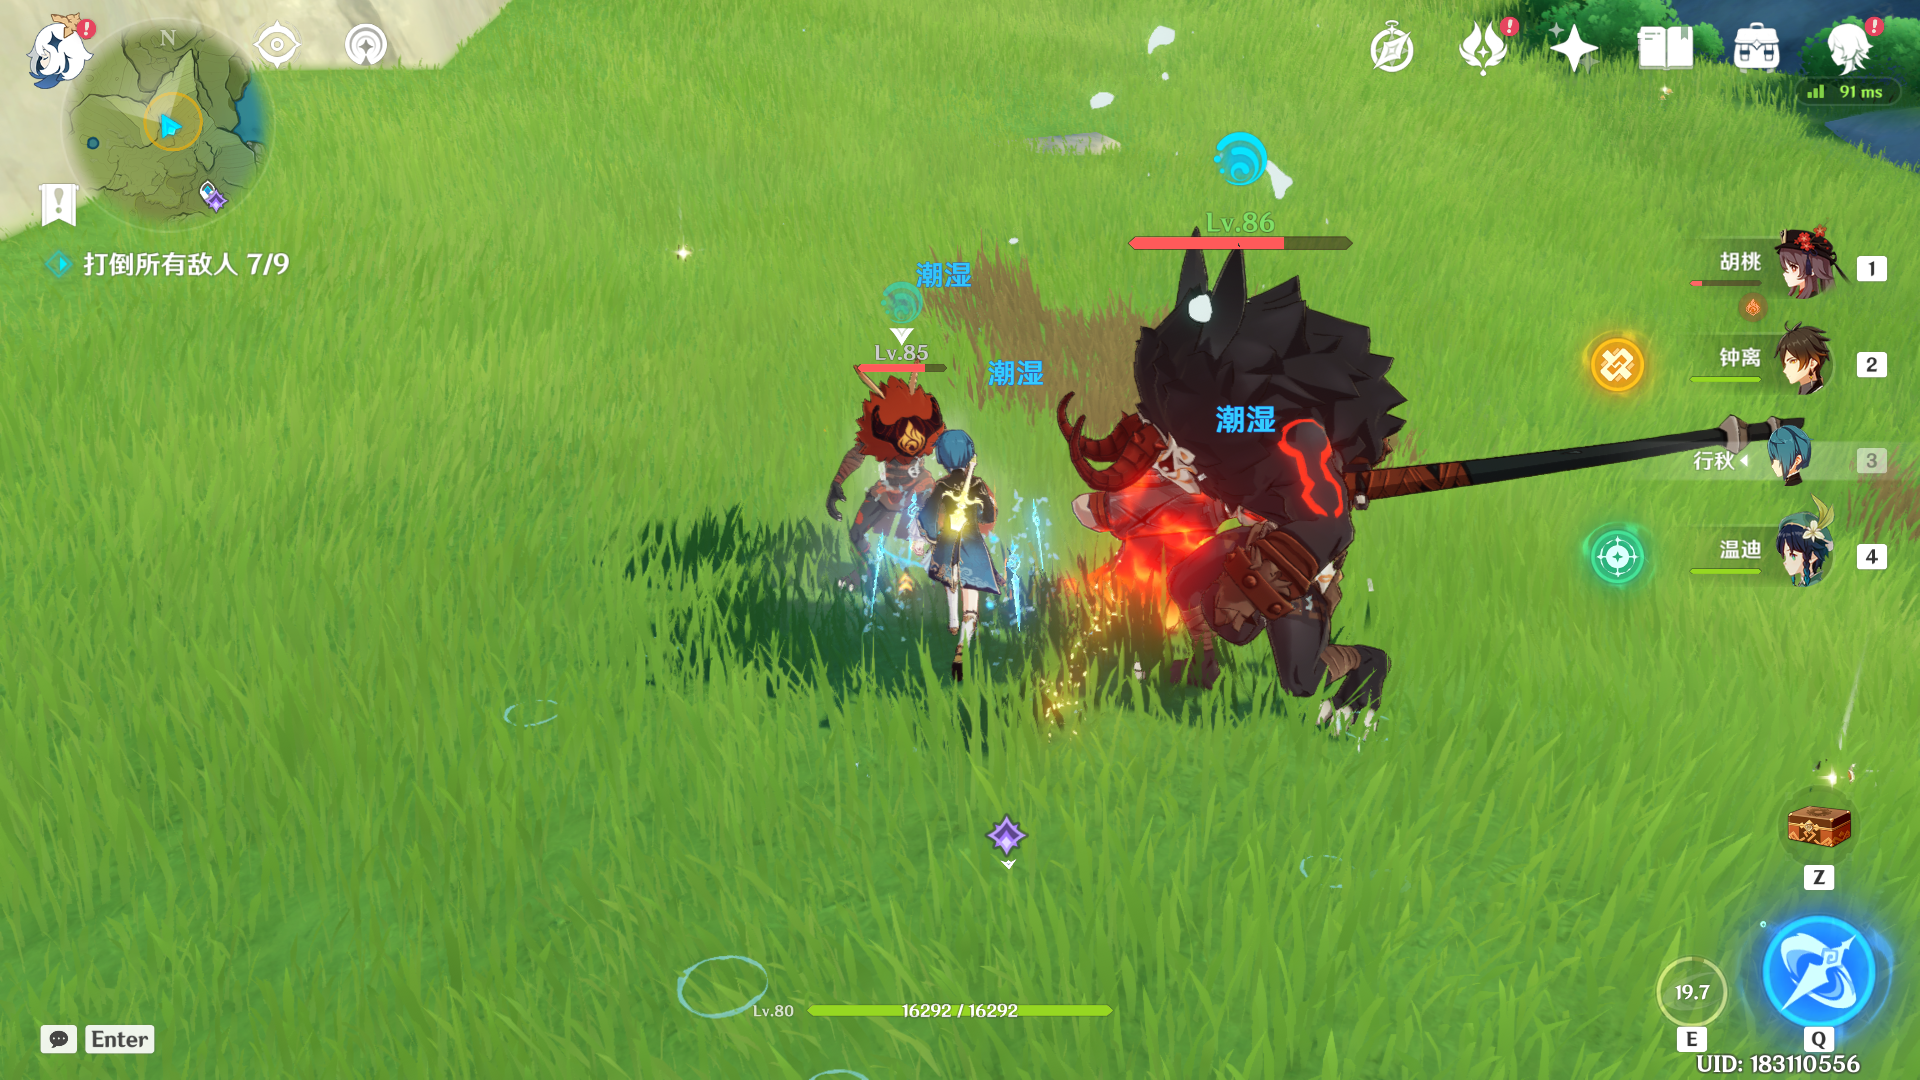bighili: (1040, 166, 1577, 787)
character: (893, 423, 1062, 699)
hili: (791, 332, 957, 589)
